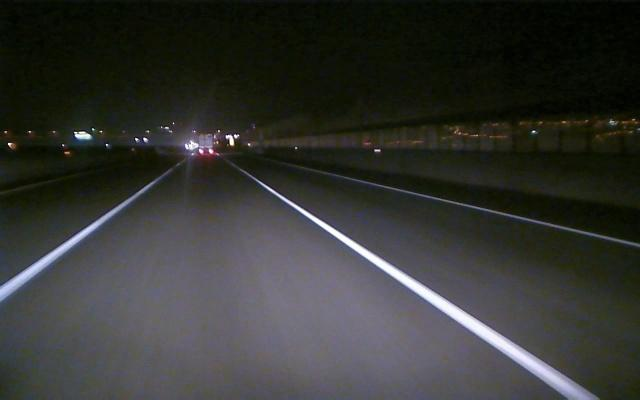lane: (253, 176, 597, 396), (349, 177, 640, 248), (2, 179, 159, 300)
